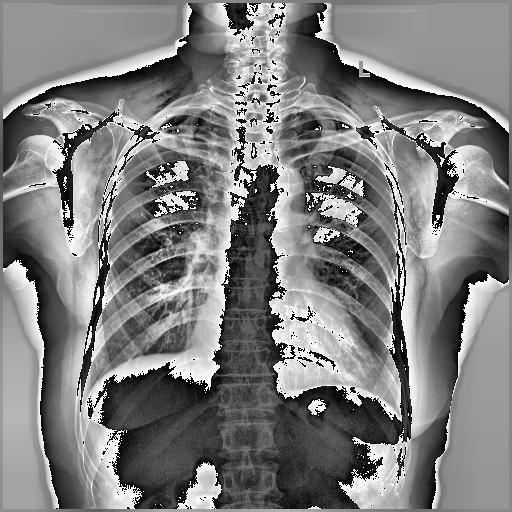0- Aortic enlargement: (255, 165, 305, 224), (260, 166, 306, 222), (257, 165, 308, 214)
13- Pulmonary fibrosis: (128, 178, 158, 188), (126, 180, 156, 186)
3- Cardiomegaly: (187, 305, 373, 387), (188, 318, 378, 390), (190, 323, 375, 390)
9- Other lesion: (126, 180, 156, 186)
